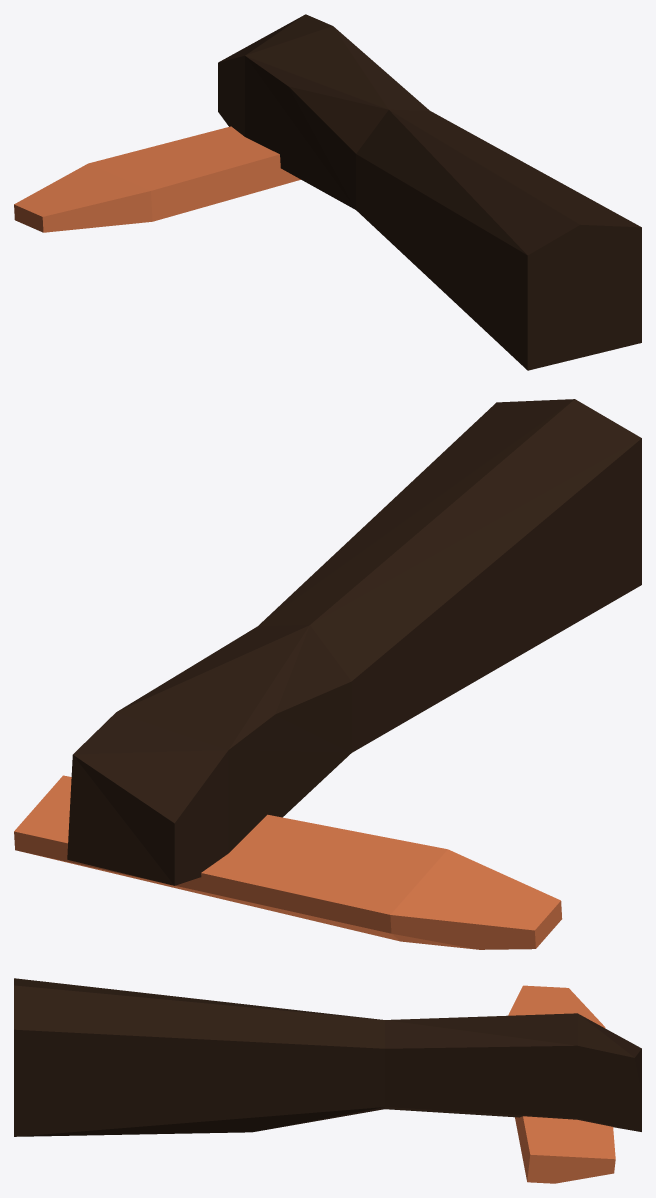
Rendered from Notice.FBX.
3 renders of one model, top to bottom at view 1: azimuth 30°, elevation 25°; view 2: azimuth 150°, elevation 25°; view 3: azimuth 270°, elevation 25°, orthographic. The views are drawn at different scales.
Visible parts, largest first — view 1: Notice; view 2: Notice; view 3: Notice.
Boxes of the visible parts, x1,y1,x2,y2 form: Notice: [14, 14, 641, 370]; Notice: [14, 399, 641, 949]; Notice: [14, 978, 641, 1183].
Bounding box in the file's own units: 0.8552 × 0.3295 × 1.28.
